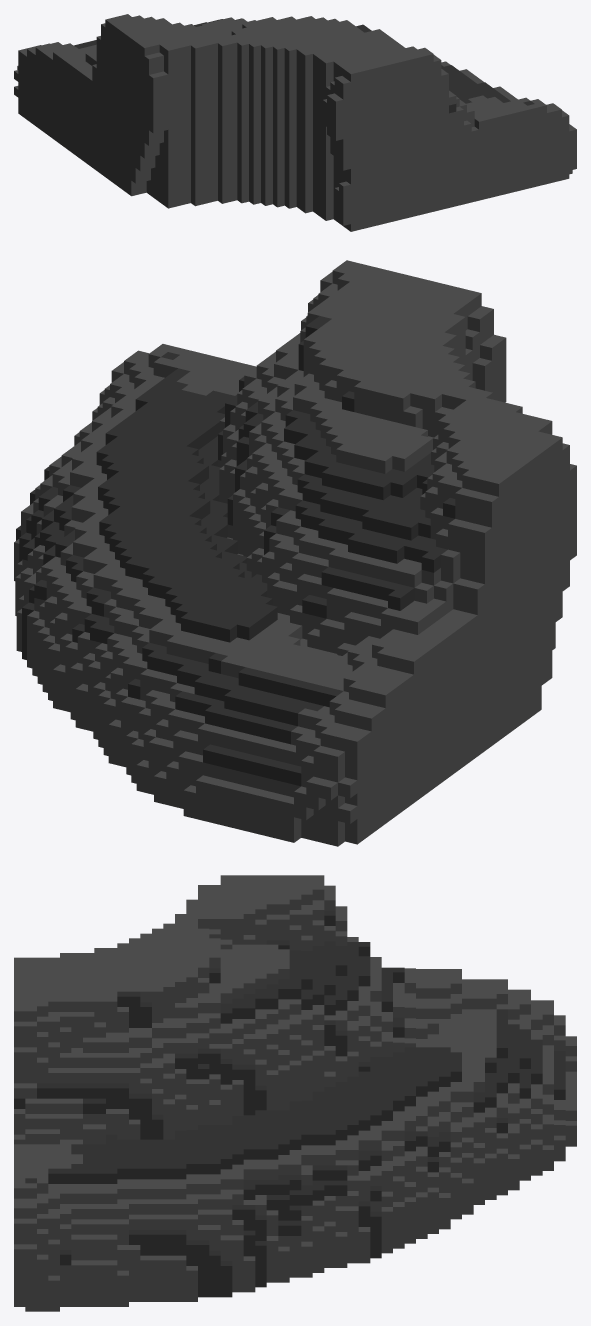
File: Medieval Assets-230-Transition - Hill Corner.obj
3 views of the same model, one above another, from view 1: azimuth 30°, elevation 25°; view 2: azimuth 150°, elevation 25°; view 3: azimuth 270°, elevation 25° (orthographic). The views are drawn at different scales.
Parts seen in each view (by area): view 1: Transition - Hill Corner; view 2: Transition - Hill Corner; view 3: Transition - Hill Corner.
Part boxes in pixels (<box>): Transition - Hill Corner: <box>14,14,576,231</box>; Transition - Hill Corner: <box>14,260,576,846</box>; Transition - Hill Corner: <box>14,875,576,1311</box>.
Size of the model in its own units: 4.7 by 2 by 4.9.
1 material, 1 textured.
